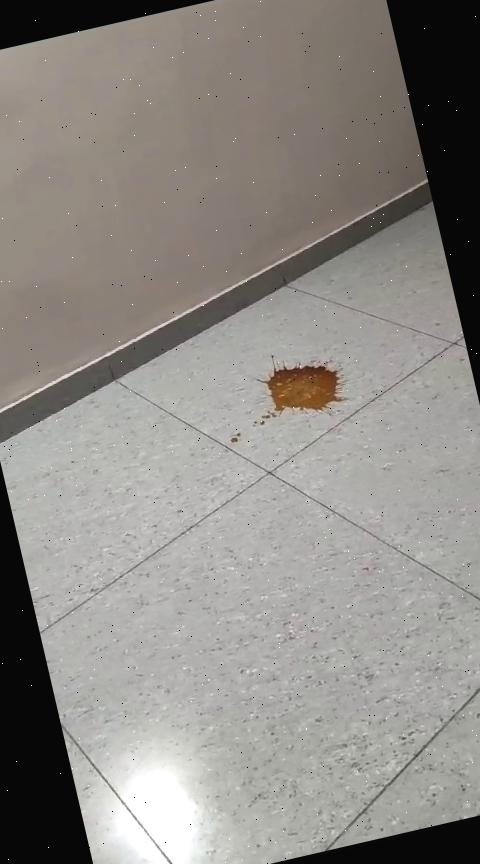dirty_floor: (204, 337, 367, 462)
